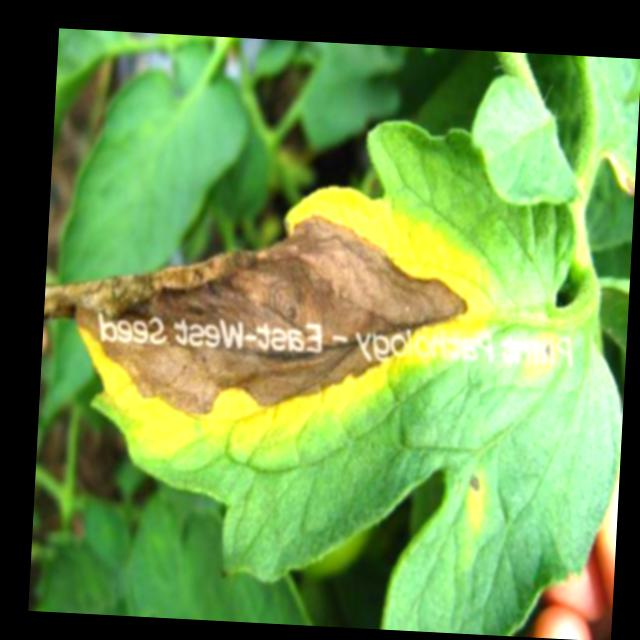Early_blight: (37, 172, 502, 469), (541, 336, 558, 365), (467, 471, 489, 491)
